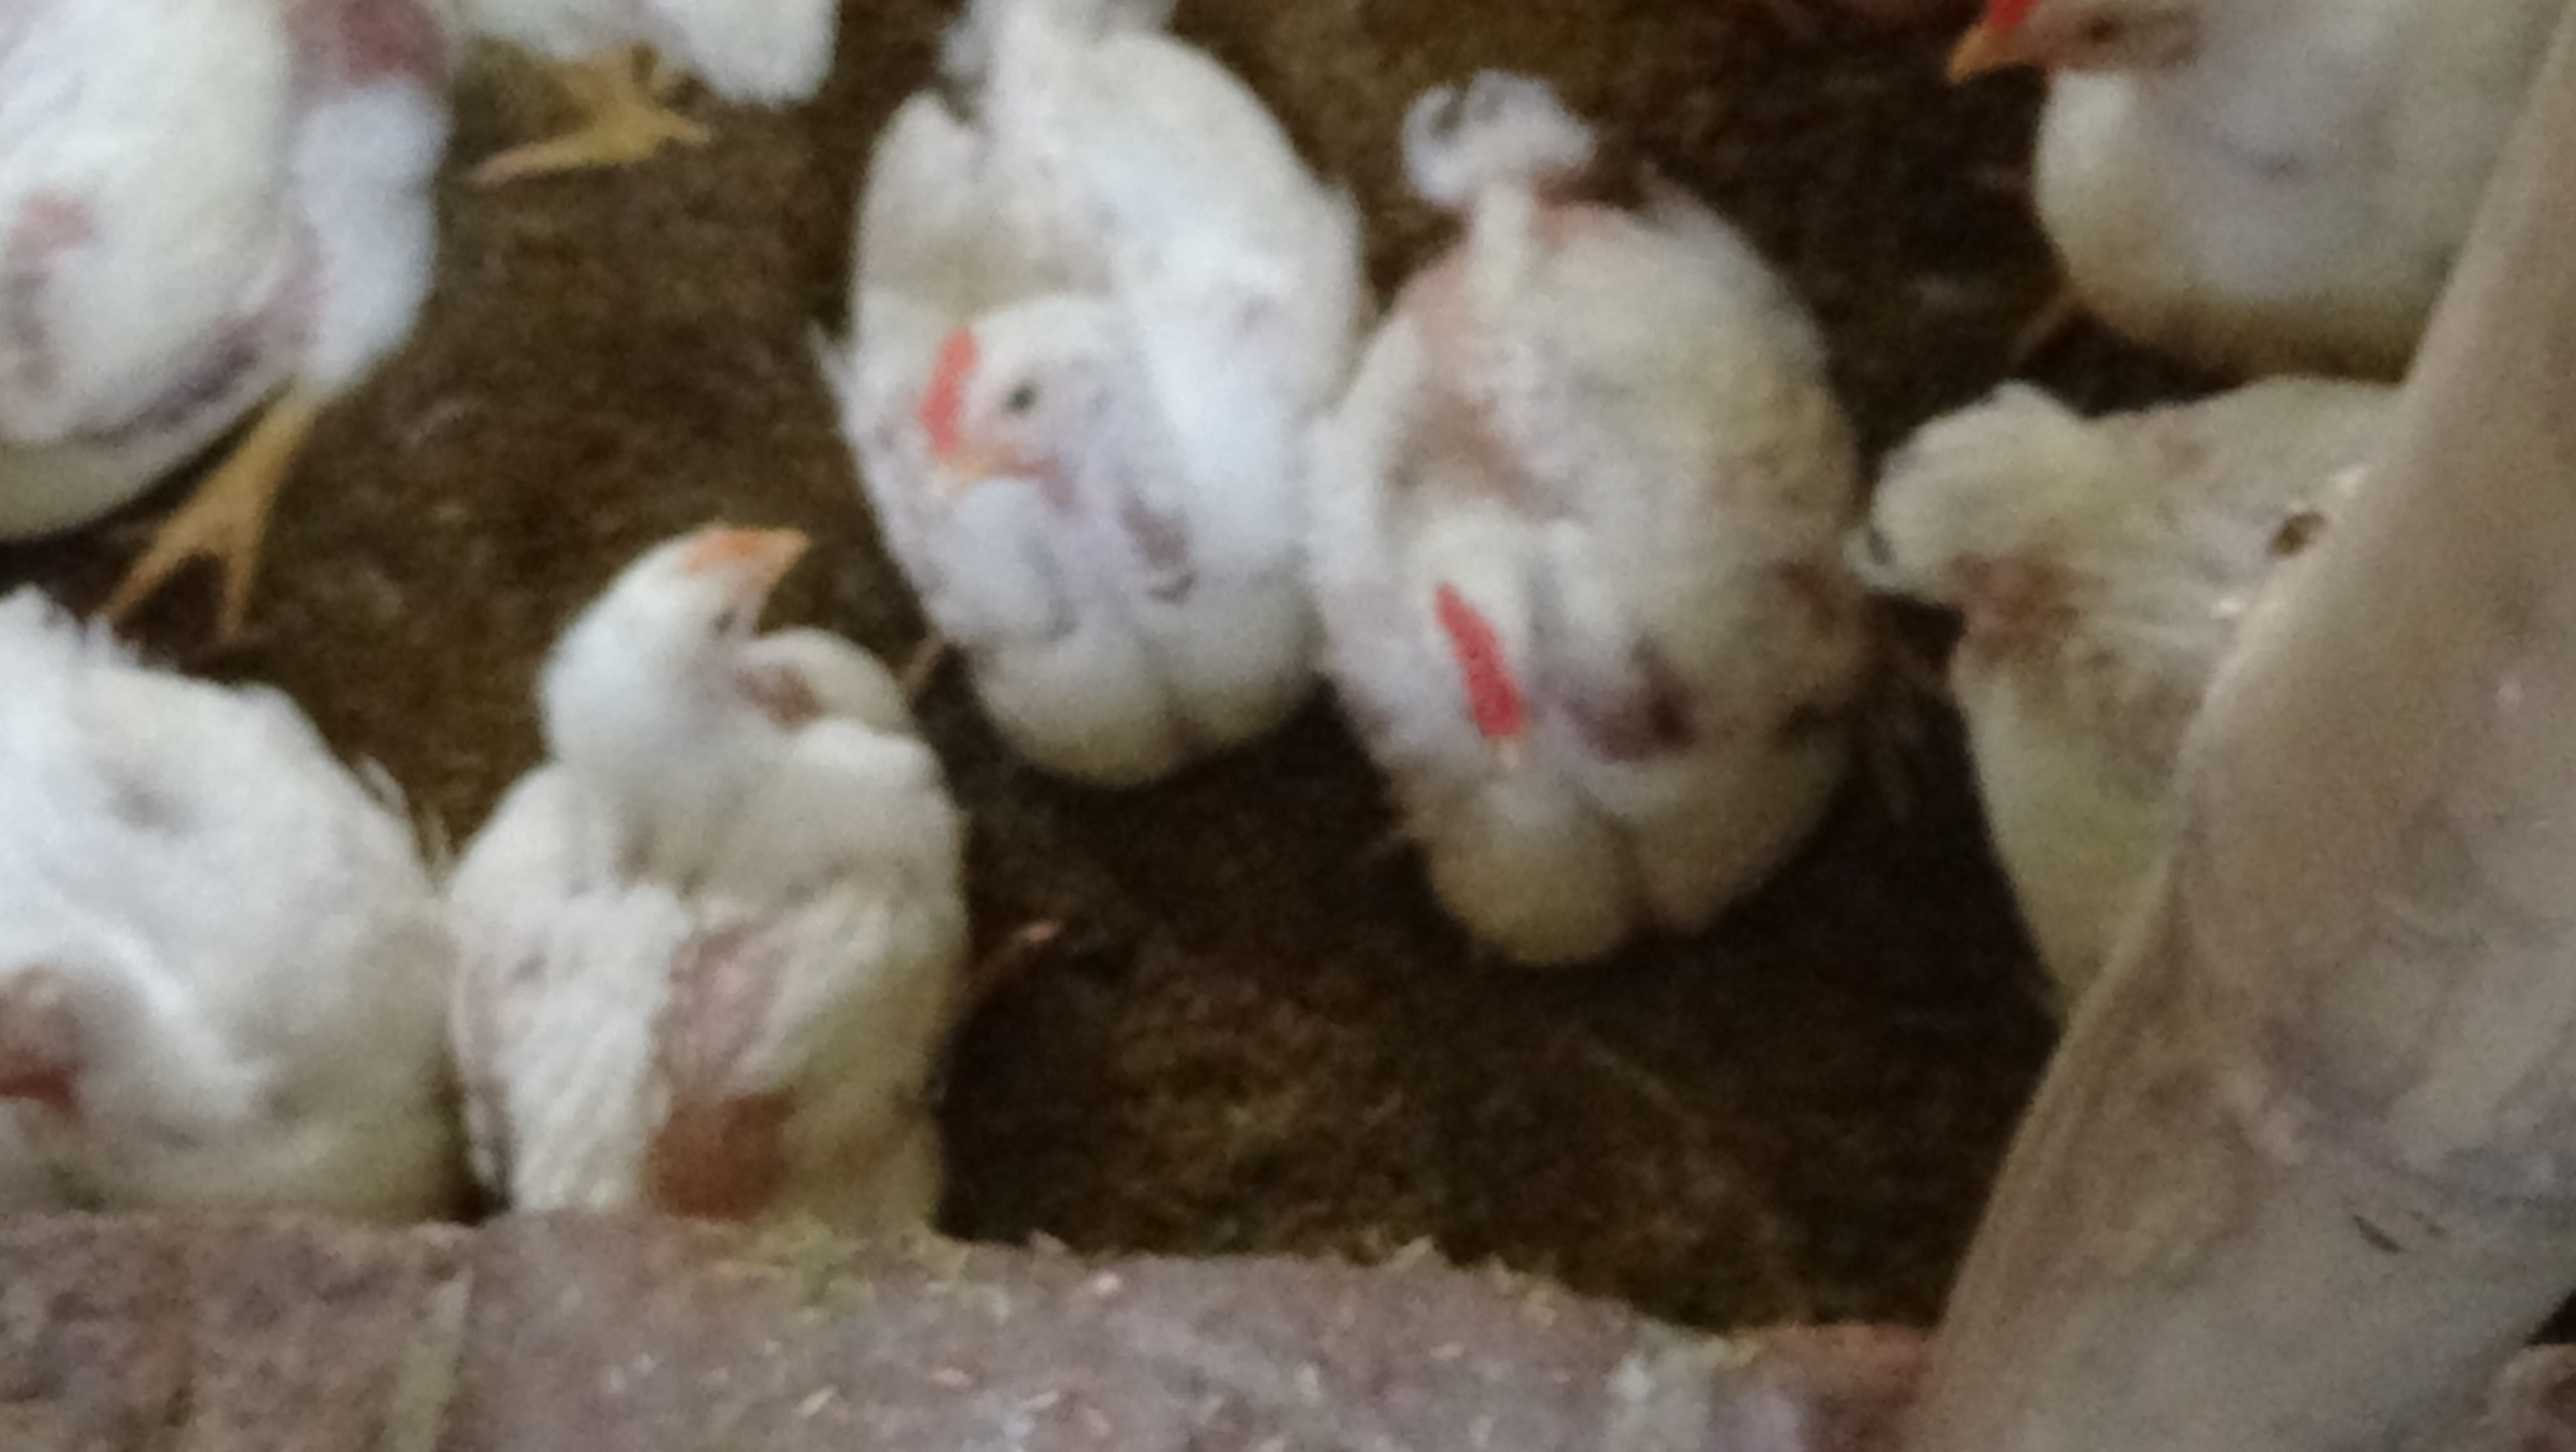Pollos: (1311, 80, 1847, 970), (1851, 349, 2466, 1071), (828, 11, 1318, 848), (444, 501, 973, 1266), (0, 673, 444, 1227), (1941, 0, 2576, 368)
